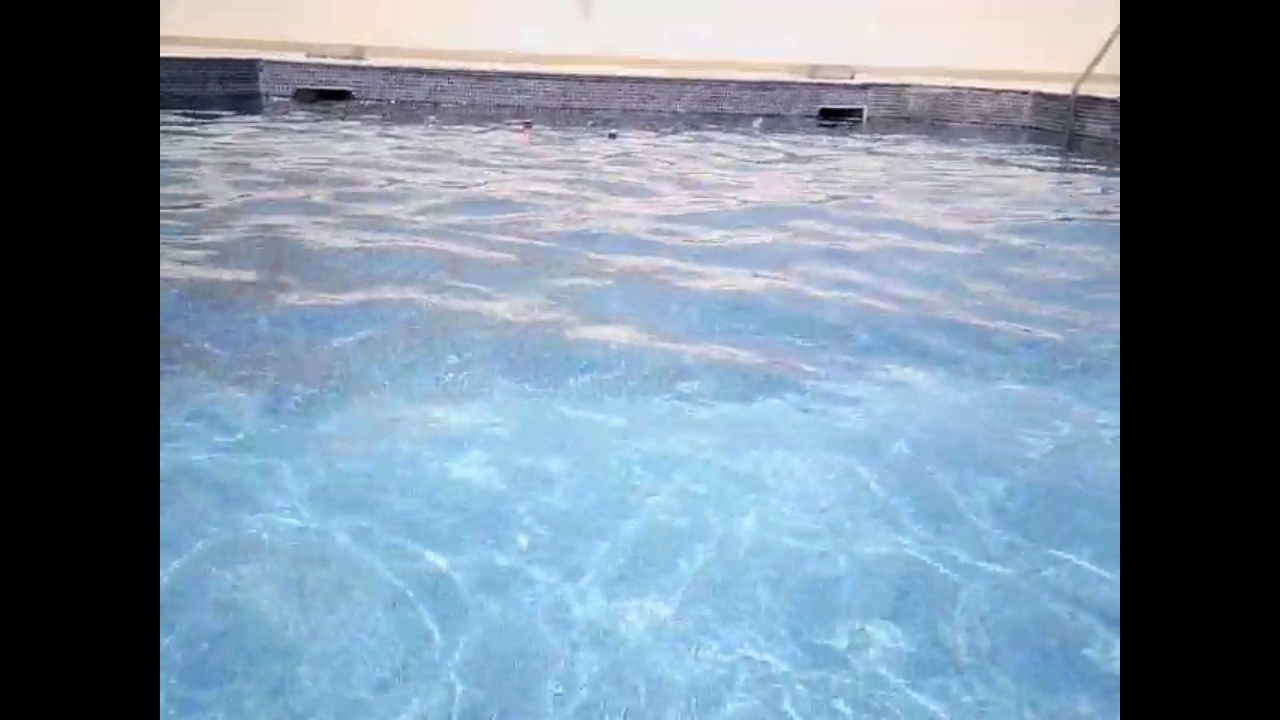debris: (518, 116, 538, 131), (605, 125, 619, 140)
